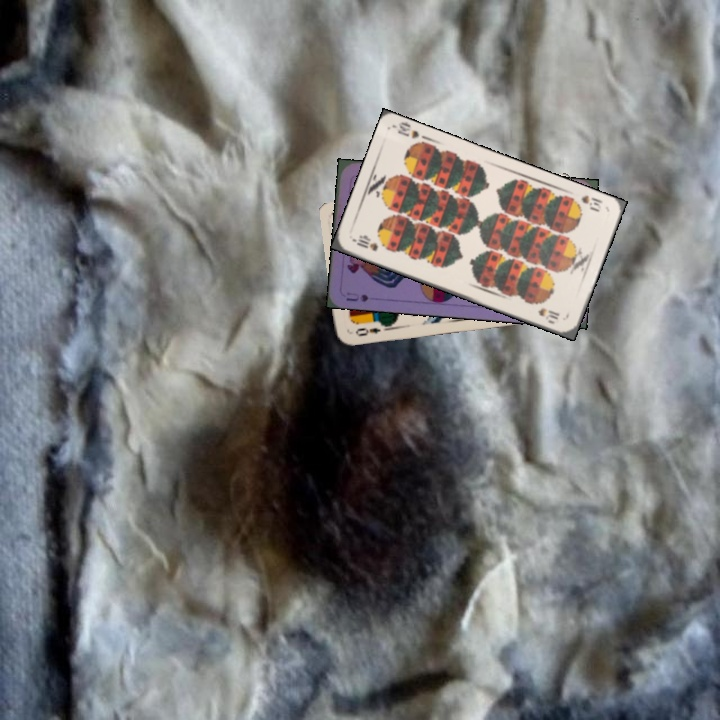EO: (351, 324, 383, 339)
S10: (349, 233, 381, 254), (577, 191, 605, 215)
SU: (342, 288, 371, 304)
